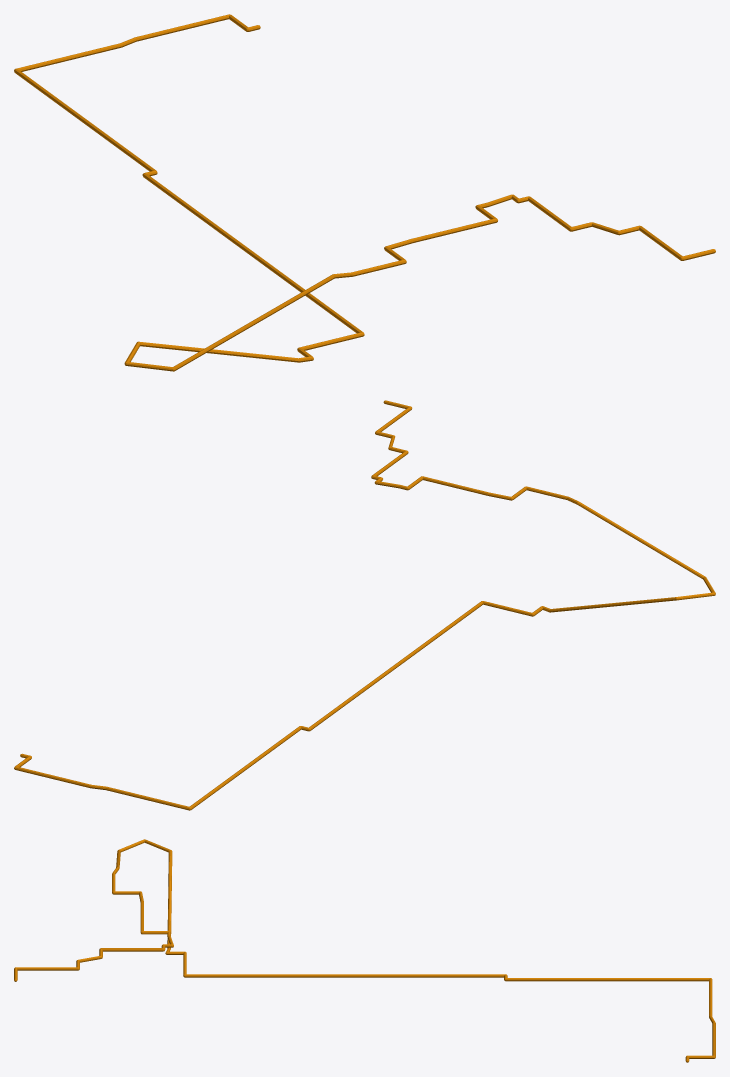
3 renders of one model, top to bottom at view 1: azimuth 30°, elevation 25°; view 2: azimuth 150°, elevation 25°; view 3: azimuth 270°, elevation 25°, orthographic. The views are drawn at different scales.
Bounding box in the file's own units: 2406 × 520 × 3939.
